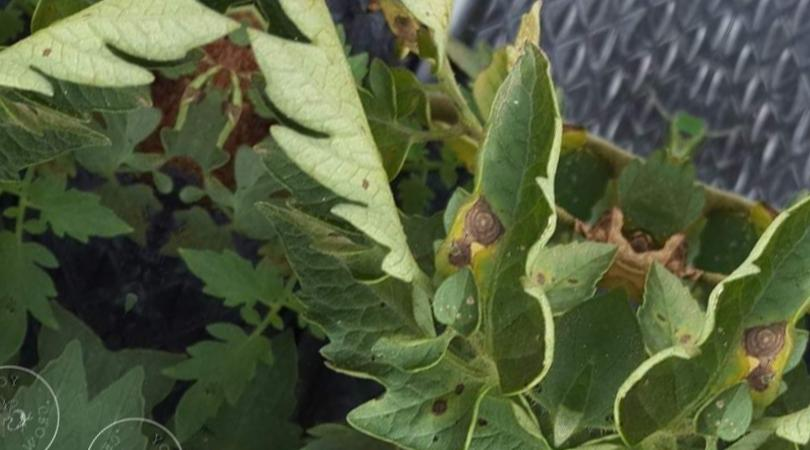Tomato Early blight leaf: (382, 0, 682, 408)
Tomato leaf: (142, 303, 293, 450), (234, 394, 415, 450)
